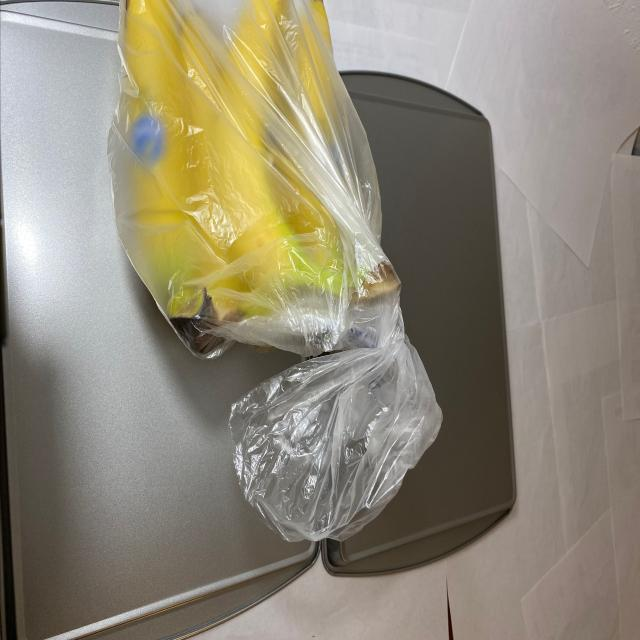banana: (84, 1, 416, 360)
